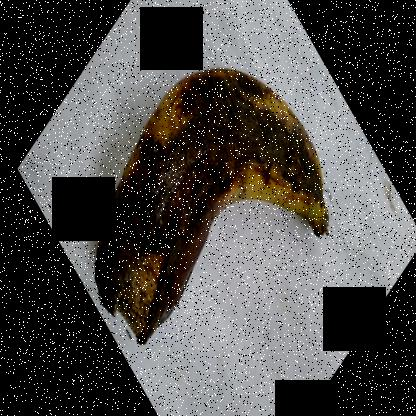rotten: (80, 42, 329, 340)
